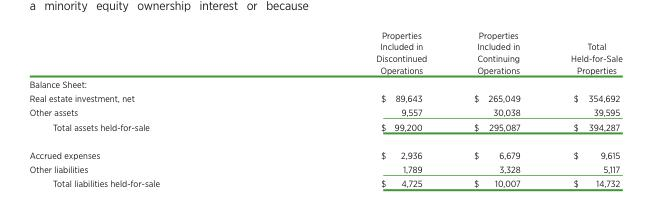table: (28, 29, 621, 188)
table column: (28, 29, 267, 188), (267, 29, 449, 188), (449, 29, 544, 188), (544, 29, 621, 188)
table column header: (28, 29, 621, 76)
table projected row header: (28, 76, 621, 90)
table row: (28, 29, 621, 76), (28, 119, 621, 140), (28, 140, 621, 161), (28, 104, 621, 119), (28, 161, 621, 176), (28, 76, 621, 90), (28, 90, 621, 104), (28, 176, 621, 188)
